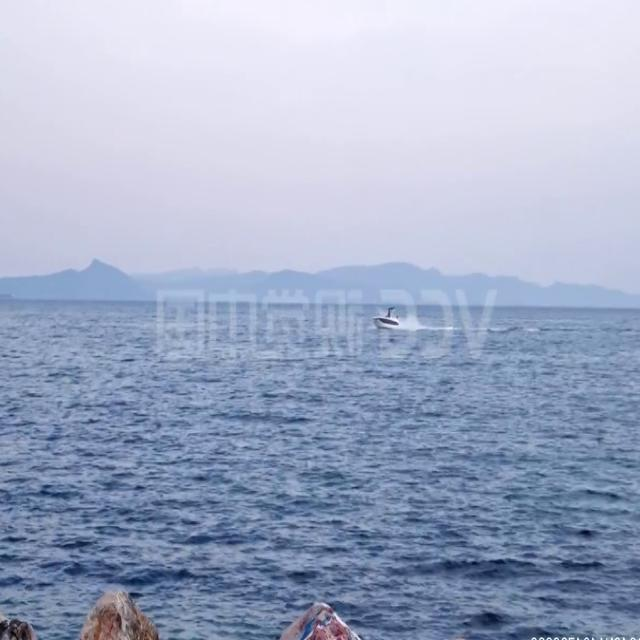houseboat: (373, 304, 401, 331)
